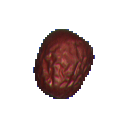gd: (25, 20, 113, 125)
